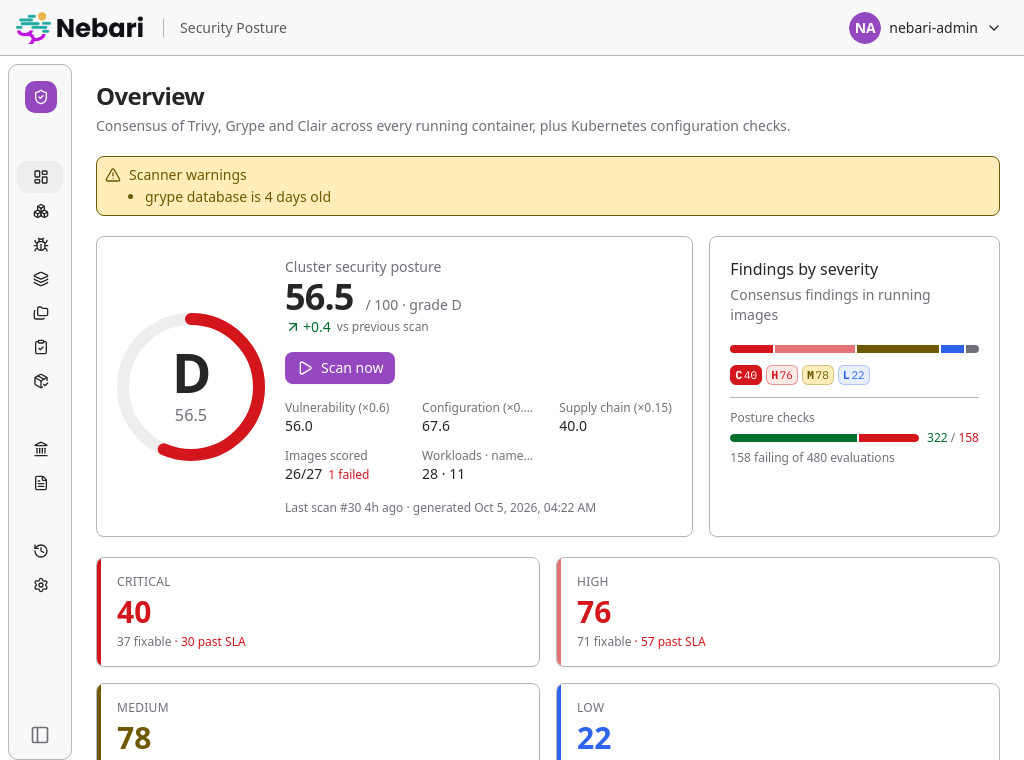
Test: Overview › shows the profile menu with groups and a menuitemradio theme picker
Click the button with aria-label "Account menu".
click(926, 28)  # box [839,8,1012,48]
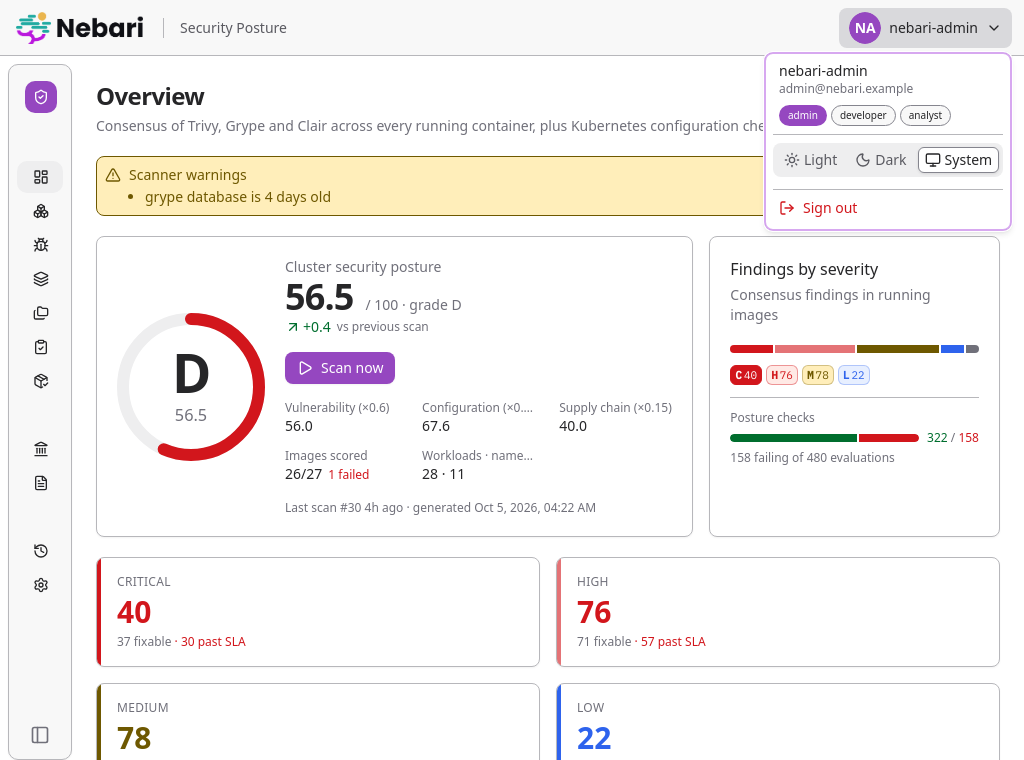
Expected: the text "admin@nebari.example" is shown, [779,80,913,97]
Expected: the menu item "Sign out" is shown, [779,198,857,217]
